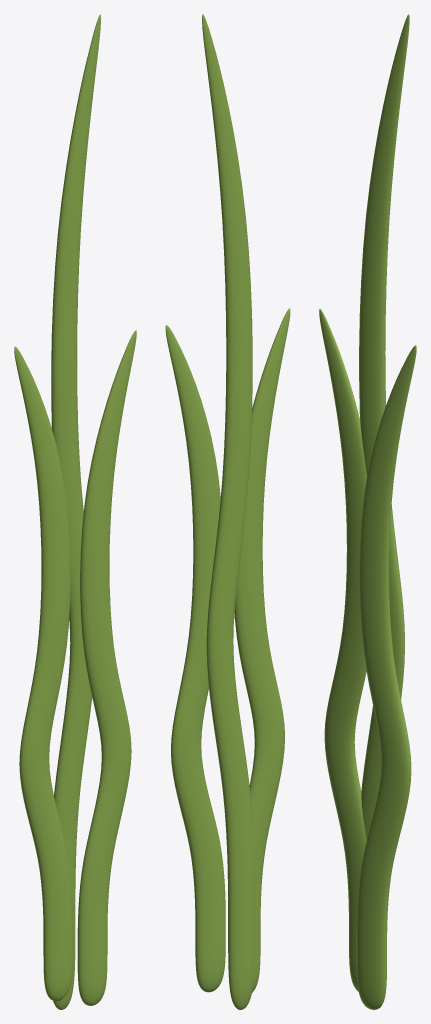
Rendered from Seaweed.fbx.
3 views of the same model, side by side, from view 1: azimuth 30°, elevation 25°; view 2: azimuth 210°, elevation 25°; view 3: azimuth 330°, elevation 25° (orthographic).
Parts seen in each view (by area): view 1: Cube; view 2: Cube; view 3: Cube.
Part boxes in pixels (left/top/right/bottom): Cube: left=14, top=14, right=136, bottom=1009; Cube: left=165, top=14, right=290, bottom=1009; Cube: left=319, top=14, right=416, bottom=1009.
Bounding box in the file's own units: 286 × 2462 × 93.03.
1 material, 1 textured.
